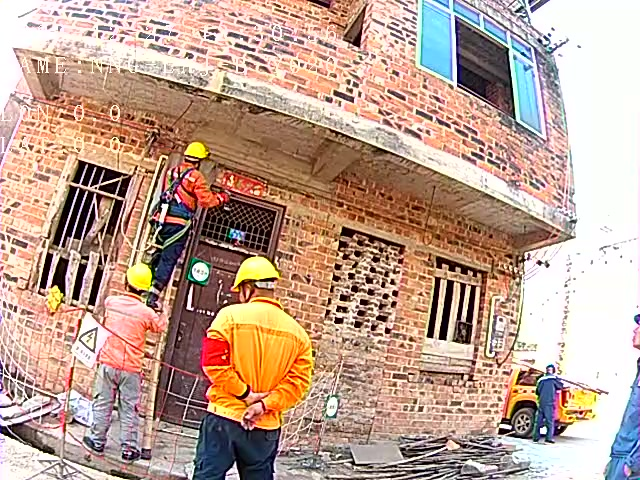halt: (235, 258, 284, 303), (127, 267, 155, 299), (185, 144, 211, 173), (548, 366, 559, 377)
inear: (241, 282, 259, 303)
